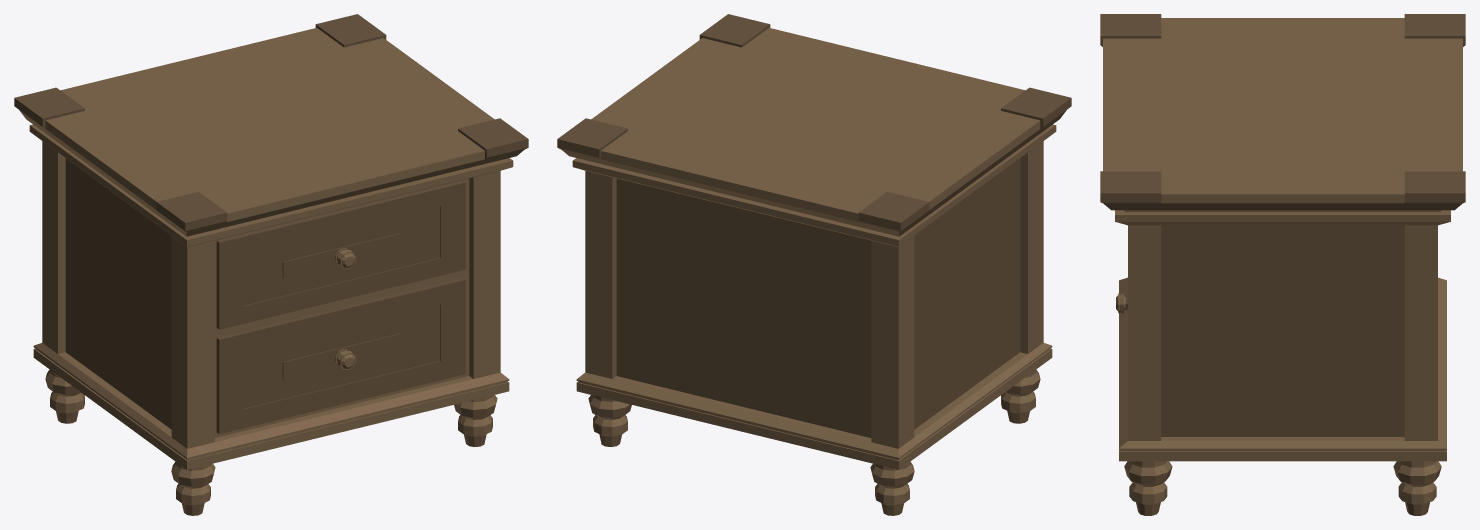
Rendered from NightStand.glb.
The picture shows the model from 3 angles, left to right: view 1: azimuth 30°, elevation 25°; view 2: azimuth 150°, elevation 25°; view 3: azimuth 270°, elevation 25°; orthographic projection. The views are drawn at different scales.
Visible parts, largest first — view 1: NightStand; view 2: NightStand; view 3: NightStand.
Boxes of the visible parts, x1,y1,x2,y2 form: NightStand: (14,14,528,515); NightStand: (557,14,1071,515); NightStand: (1100,14,1465,515).
Bounding box in the file's own units: 0.3908 × 0.3403 × 0.3369.
2 materials, 2 textured.
